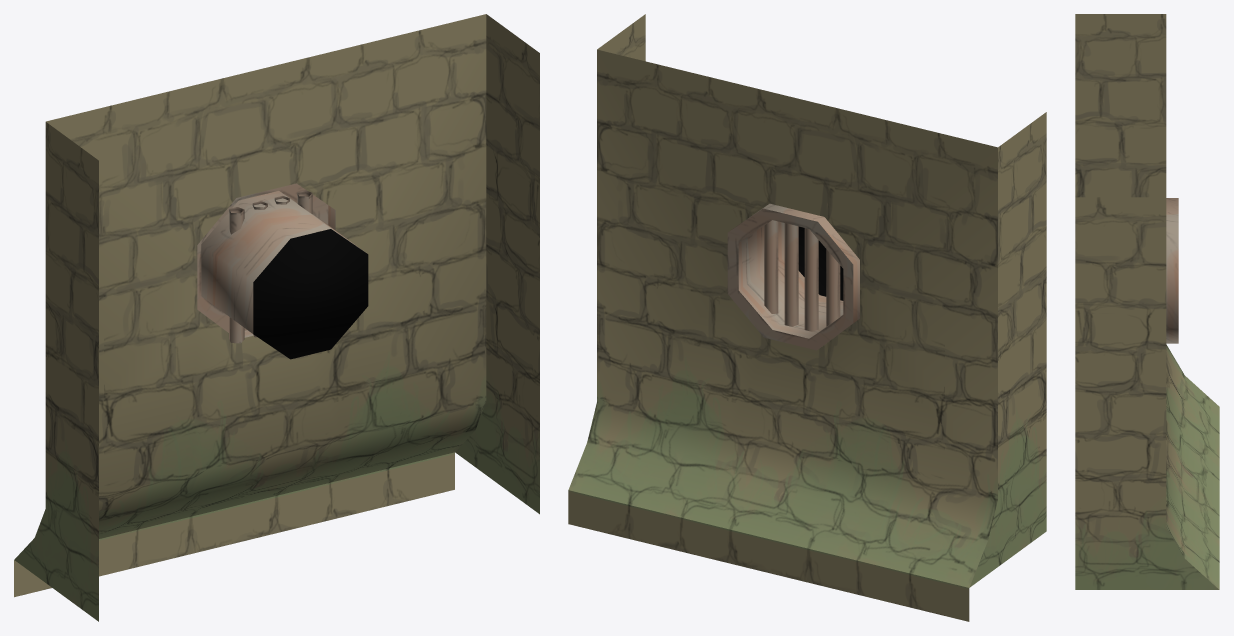
Rendered from WallBaseDetail.fbx.
3 renders of one model, left to right at view 1: azimuth 30°, elevation 25°; view 2: azimuth 150°, elevation 25°; view 3: azimuth 270°, elevation 25°, orthographic. The views are drawn at different scales.
Parts seen in each view (by area): view 1: WallBaseDetail; view 2: WallBaseDetail; view 3: WallBaseDetail.
Part boxes in pixels (box(x1,y1,x2,y2)): WallBaseDetail: box(14, 14, 539, 621); WallBaseDetail: box(568, 14, 1046, 621); WallBaseDetail: box(1075, 14, 1219, 589).
Bounding box in the file's own units: 300 × 324 × 100.
